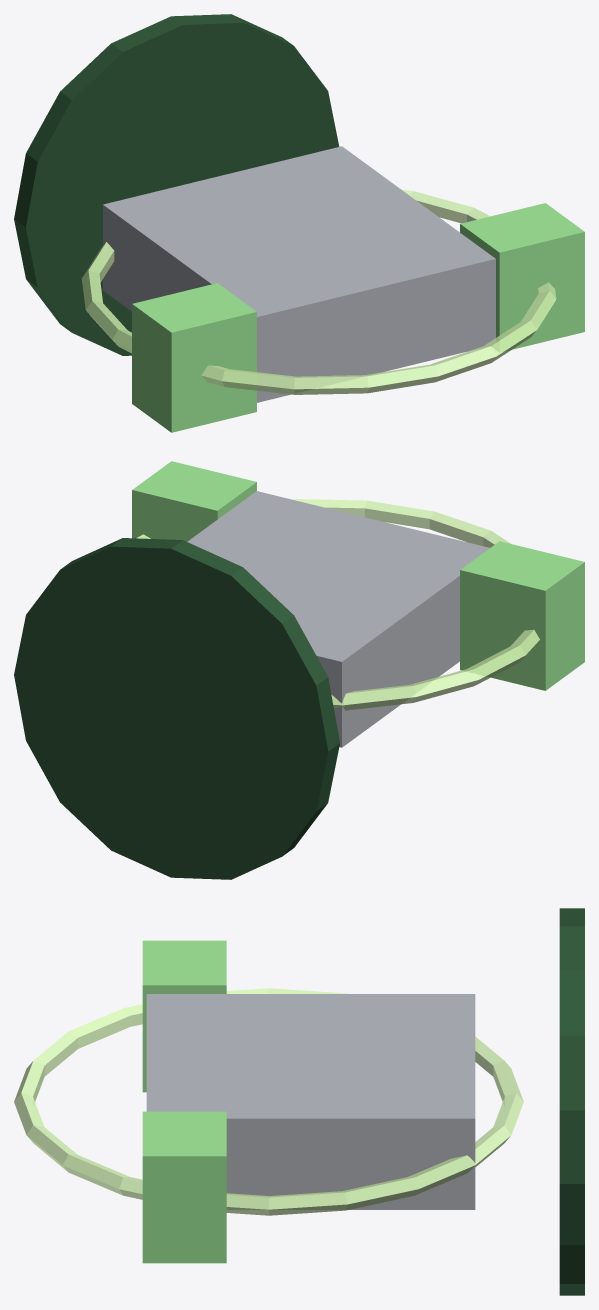
Rendered from 05_high_tier_magic_armor_aura.glb.
3 views of the same model, one above another, from view 1: azimuth 30°, elevation 25°; view 2: azimuth 150°, elevation 25°; view 3: azimuth 270°, elevation 25° (orthographic). The views are drawn at different scales.
Parts seen in each view (by area): view 1: chest_plate_upgrade, armor_display_base, left_pauldron_upgrade, right_pauldron_upgrade, armor_barrier_ring; view 2: armor_display_base, chest_plate_upgrade, left_pauldron_upgrade, armor_barrier_ring, right_pauldron_upgrade; view 3: chest_plate_upgrade, armor_barrier_ring, right_pauldron_upgrade, armor_display_base, left_pauldron_upgrade.
Part boxes in pixels (x1,y1,x2,y2): chest_plate_upgrade: [103, 146, 495, 402]; armor_display_base: [14, 14, 339, 355]; left_pauldron_upgrade: [132, 283, 256, 432]; right_pauldron_upgrade: [460, 203, 584, 351]; armor_barrier_ring: [81, 189, 556, 394]; armor_display_base: [14, 538, 339, 879]; chest_plate_upgrade: [187, 491, 489, 747]; left_pauldron_upgrade: [460, 541, 584, 690]; armor_barrier_ring: [136, 499, 539, 710]; right_pauldron_upgrade: [132, 461, 256, 541]; chest_plate_upgrade: [146, 994, 475, 1209]; armor_barrier_ring: [14, 988, 523, 1215]; right_pauldron_upgrade: [142, 1111, 226, 1263]; armor_display_base: [559, 908, 584, 1295]; left_pauldron_upgrade: [142, 940, 226, 1092].
Size of the model in its own units: 1.21 by 0.92 by 1.36.
